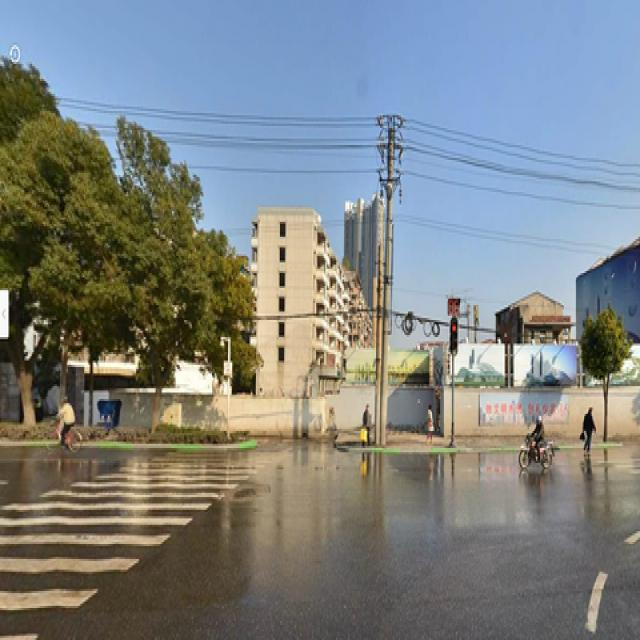cinn: (122, 190, 218, 433)
